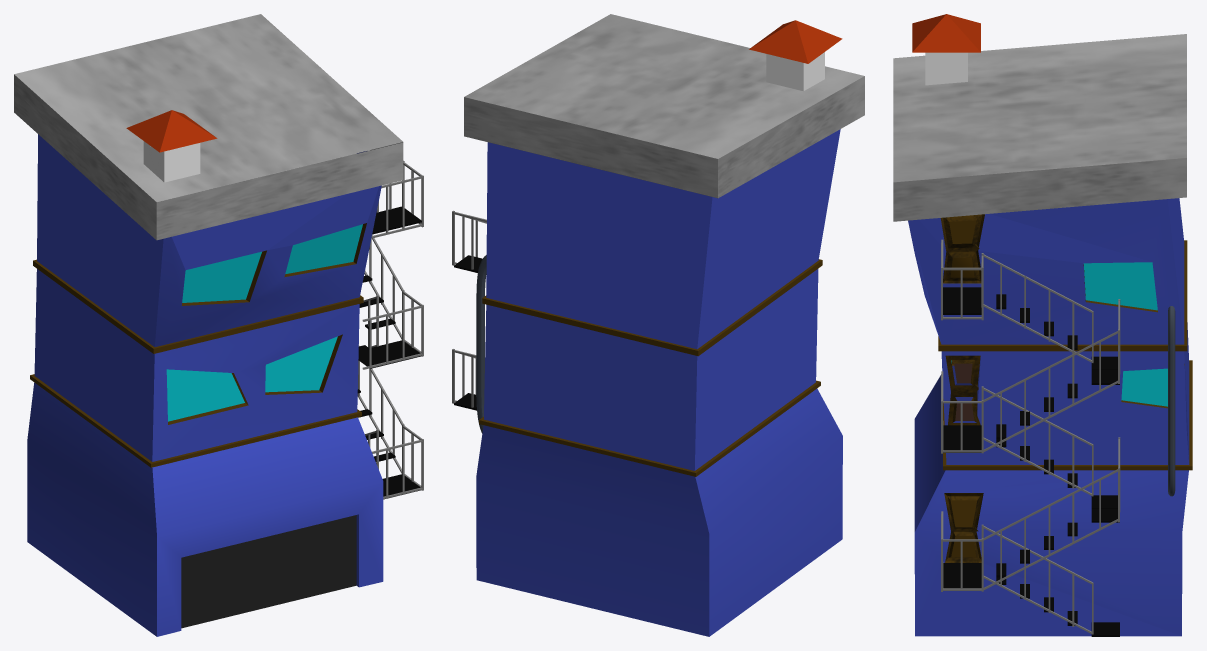
Rendered from PredioTorto-AzulLOD0.fbx.
The picture shows the model from 3 angles, left to right: view 1: azimuth 30°, elevation 25°; view 2: azimuth 150°, elevation 25°; view 3: azimuth 270°, elevation 25°; orthographic projection. The views are drawn at different scales.
Parts seen in each view (by area): view 1: Predio3Andares; view 2: Predio3Andares; view 3: Predio3Andares.
Part boxes in pixels (x1,y1,x2,y2): Predio3Andares: (14,14,423,636); Predio3Andares: (452,14,864,636); Predio3Andares: (893,14,1192,636).
Bounding box in the file's own units: 1035 × 1727 × 895.
